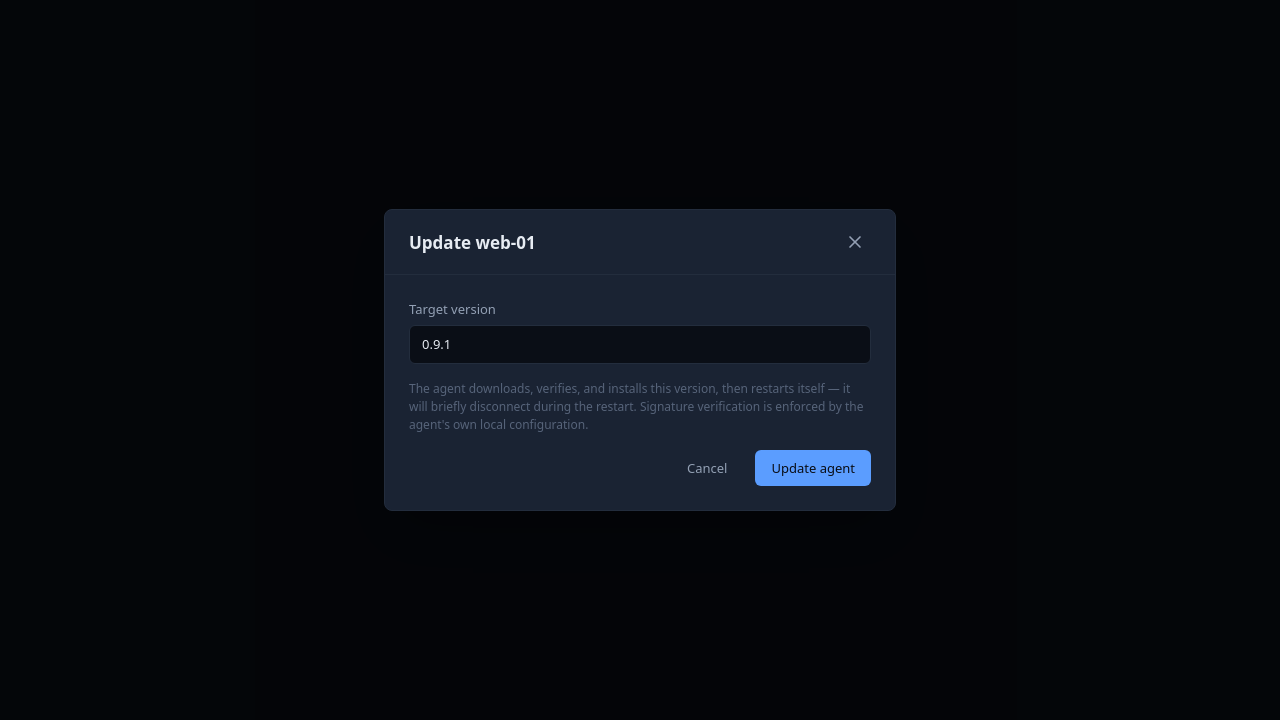
UpdateAgentModal › disables the confirm button when the version field is empty
Clear the field labelled "Target version": (640, 344) [409, 325, 871, 364]
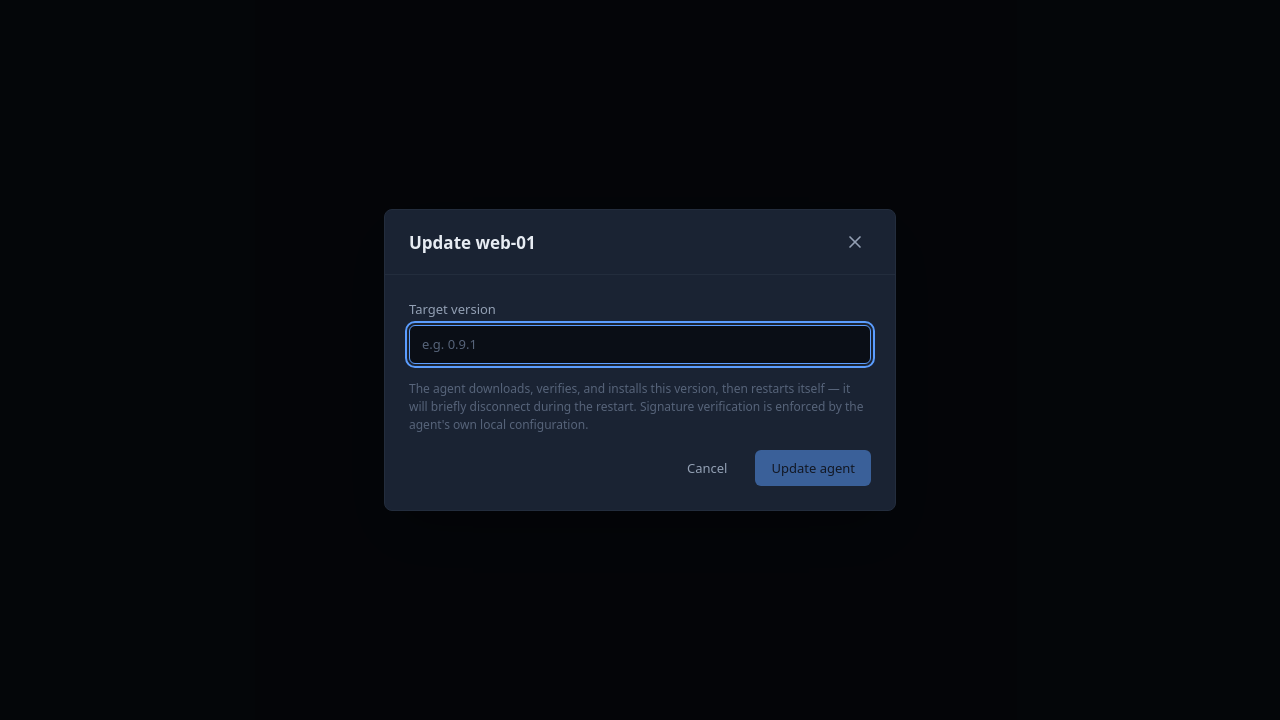
Now the button "Update agent" is disabled, box [756, 450, 871, 486]
